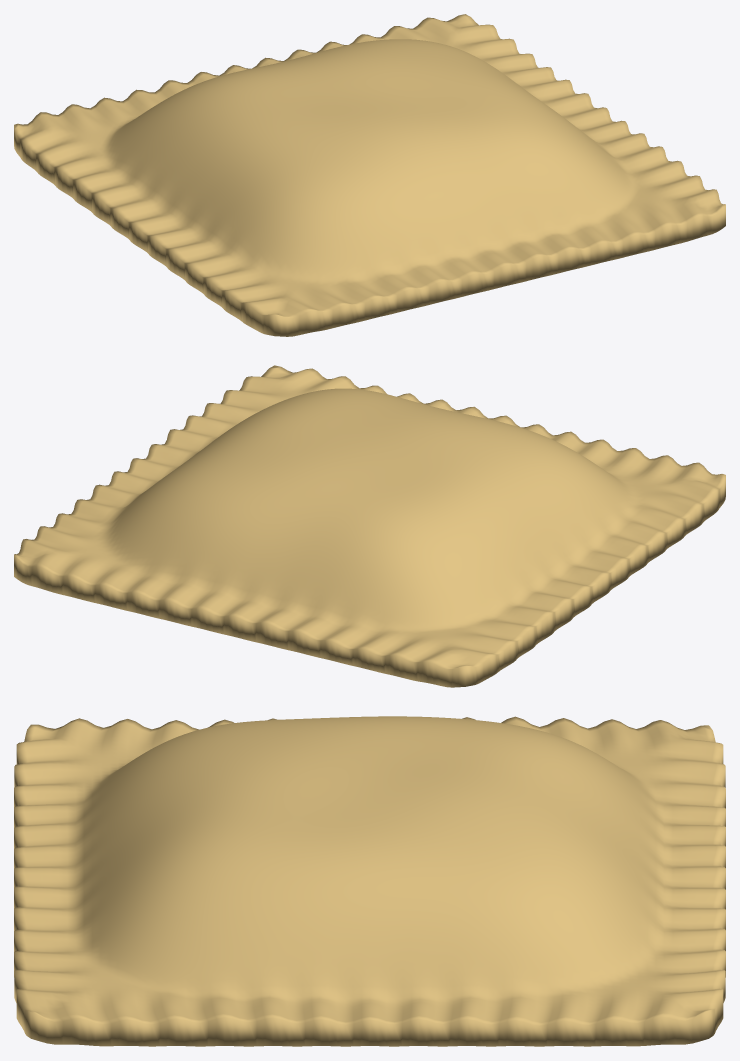
The model's file is NEW361_ravioli_LOD0.glb.
The picture shows the model from 3 angles, top to bottom: view 1: azimuth 30°, elevation 25°; view 2: azimuth 150°, elevation 25°; view 3: azimuth 270°, elevation 25°; orthographic projection. The views are drawn at different scales.
Visible parts, largest first — view 1: Whole_square_raviolo; view 2: Whole_square_raviolo; view 3: Whole_square_raviolo.
Part boxes in pixels (x1=…): Whole_square_raviolo: x1=14, y1=14, x2=725, y2=336; Whole_square_raviolo: x1=14, y1=365, x2=725, y2=687; Whole_square_raviolo: x1=14, y1=716, x2=725, y2=1046.
Size of the model in its own units: 0.0554 by 0.0117 by 0.0554.
